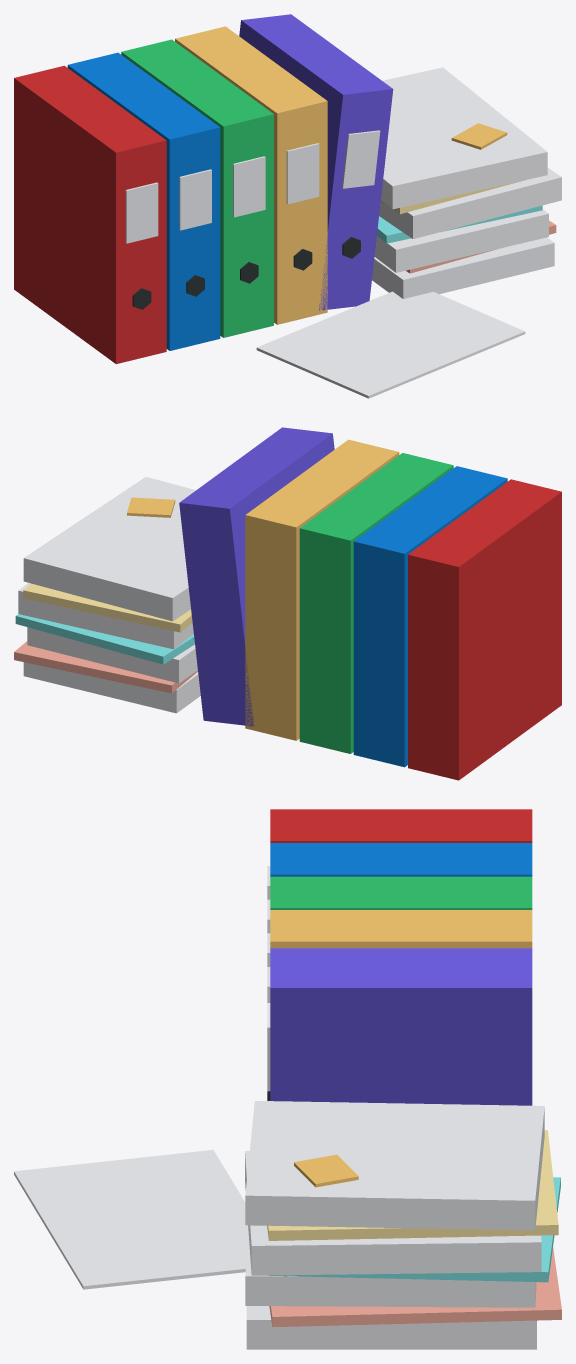
File: aktenstapel.glb
The picture shows the model from 3 angles, top to bottom: view 1: azimuth 30°, elevation 25°; view 2: azimuth 150°, elevation 25°; view 3: azimuth 270°, elevation 25°; orthographic projection. The views are drawn at different scales.
Parts seen in each view (by area): view 1: aktenstapel-m; view 2: aktenstapel-m; view 3: aktenstapel-m.
Boxes of the visible parts, x1,y1,x2,y2 form: aktenstapel-m: (14,14,561,398); aktenstapel-m: (14,427,561,780); aktenstapel-m: (14,809,561,1349).
Size of the model in its own units: 0.6981 by 0.3273 by 0.5855.
